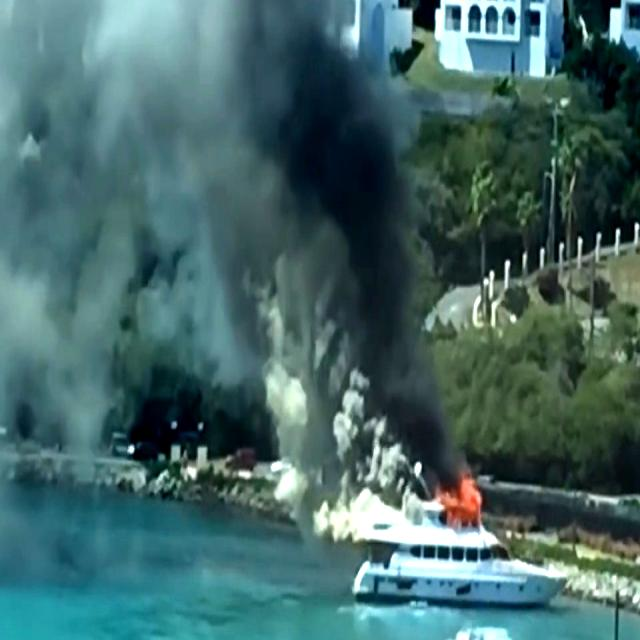smoke: (262, 190, 439, 475), (183, 0, 383, 230)
